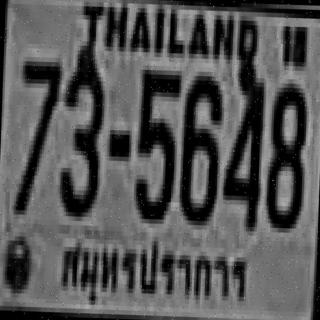N03: (57, 49, 104, 213)
N04: (220, 57, 263, 229)
N05: (133, 65, 180, 220)
N06: (179, 71, 221, 221)
N07: (13, 56, 60, 211)
N08: (263, 80, 305, 226)
P57: (53, 225, 254, 320)
